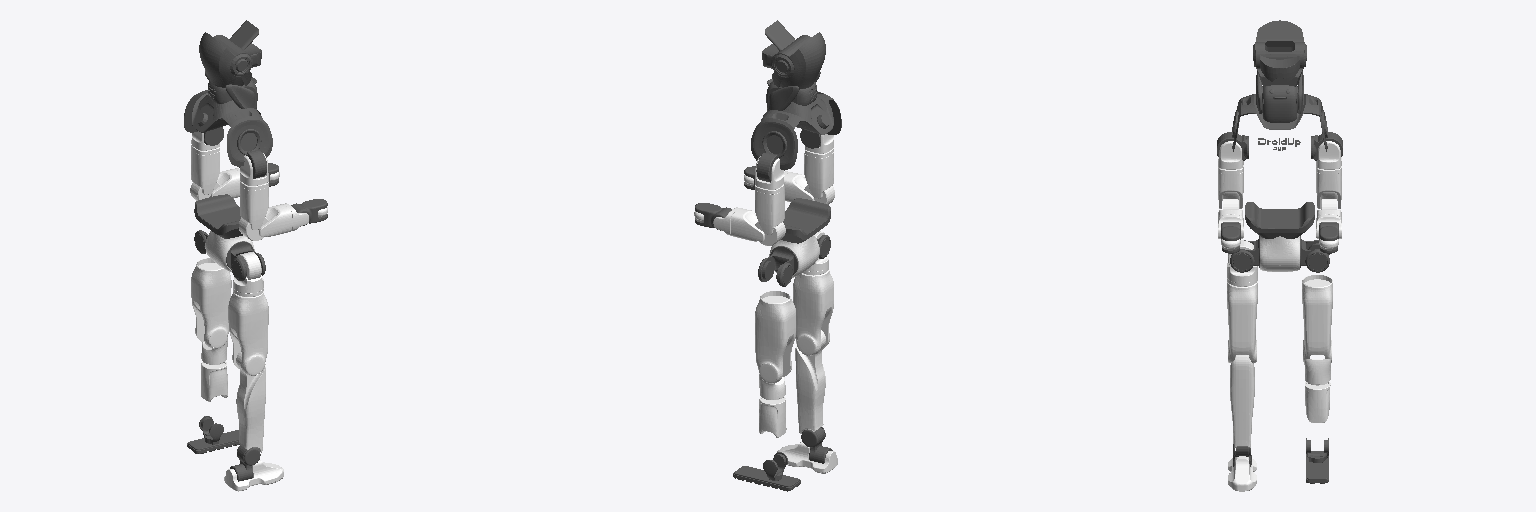
--- Facts derived from the render (not from the file) ---
The picture shows the robot from 3 angles, left to right: view 1: azimuth 30°, elevation 25°; view 2: azimuth 150°, elevation 25°; view 3: azimuth 270°, elevation 25°; orthographic projection.
Model E1_1105 with 31 links and 30 joints (12 revolute, 18 fixed), rooted at pelvis, posed every joint at zero.
Visible links, largest first — view 1: torso_link, left_hip_yaw_link, right_hip_yaw_link, right_knee_link, right_shoulder_yaw_link, left_knee_link, left_shoulder_yaw_link, left_ankle_pitch_link, head_yaw_link, right_ankle_roll_link, right_hip_roll_link, right_elbow_link (+4 smaller); view 2: torso_link, left_hip_yaw_link, right_hip_yaw_link, right_knee_link, left_shoulder_yaw_link, left_knee_link, right_shoulder_yaw_link, left_ankle_pitch_link, left_hip_pitch_link, head_yaw_link, right_ankle_roll_link, left_elbow_link (+4 smaller); view 3: torso_link, left_hip_yaw_link, right_hip_yaw_link, right_knee_link, head_yaw_link, left_knee_link, pelvis, right_shoulder_yaw_link, left_shoulder_yaw_link, right_ankle_roll_link, left_ankle_pitch_link, left_hip_pitch_link (+4 smaller).
Link boxes in pixels (x1=…): torso_link: x1=184, y1=20, x2=272, y2=238; left_hip_yaw_link: x1=191, y1=258, x2=231, y2=348; right_hip_yaw_link: x1=228, y1=291, x2=268, y2=375; right_knee_link: x1=236, y1=351, x2=265, y2=452; right_shoulder_yaw_link: x1=239, y1=181, x2=268, y2=240; left_knee_link: x1=201, y1=326, x2=227, y2=401; left_shoulder_yaw_link: x1=190, y1=145, x2=220, y2=200; left_ankle_pitch_link: x1=187, y1=416, x2=239, y2=453; head_yaw_link: x1=205, y1=70, x2=257, y2=108; right_ankle_roll_link: x1=224, y1=460, x2=283, y2=491; right_hip_roll_link: x1=233, y1=252, x2=263, y2=296; right_elbow_link: x1=259, y1=204, x2=292, y2=236; torso_link: x1=751, y1=20, x2=841, y2=243; left_hip_yaw_link: x1=755, y1=291, x2=795, y2=383; right_hip_yaw_link: x1=793, y1=270, x2=833, y2=355; right_knee_link: x1=795, y1=330, x2=825, y2=433; left_shoulder_yaw_link: x1=755, y1=184, x2=785, y2=245; left_knee_link: x1=759, y1=360, x2=786, y2=437; right_shoulder_yaw_link: x1=804, y1=148, x2=834, y2=204; left_ankle_pitch_link: x1=733, y1=452, x2=800, y2=491; left_hip_pitch_link: x1=758, y1=246, x2=797, y2=286; head_yaw_link: x1=766, y1=72, x2=820, y2=110; right_ankle_roll_link: x1=777, y1=442, x2=837, y2=473; left_elbow_link: x1=731, y1=208, x2=764, y2=241; torso_link: x1=1232, y1=20, x2=1327, y2=238; left_hip_yaw_link: x1=1302, y1=275, x2=1332, y2=362; right_hip_yaw_link: x1=1227, y1=281, x2=1257, y2=363; right_knee_link: x1=1230, y1=355, x2=1254, y2=447; head_yaw_link: x1=1256, y1=71, x2=1303, y2=122; left_knee_link: x1=1304, y1=359, x2=1330, y2=422; pelvis: x1=1260, y1=236, x2=1299, y2=271; right_shoulder_yaw_link: x1=1218, y1=165, x2=1243, y2=209; left_shoulder_yaw_link: x1=1316, y1=166, x2=1341, y2=209; right_ankle_roll_link: x1=1228, y1=456, x2=1256, y2=491; left_ankle_pitch_link: x1=1306, y1=438, x2=1328, y2=483; left_hip_pitch_link: x1=1300, y1=236, x2=1329, y2=272.
Size in the robot's own frame: 0.3801 by 0.3876 by 1.5 metres.
Meshes: 31 distinct files referenced, 27 mesh visuals loaded (27 binary STL); not drawn: 4 (reference not matched to a file when rendering).

URDF robot description (E1_1105):
<robot name="E1_1105">
  <mujoco>
    <compiler meshdir="./meshes" discardvisual="false" />
  </mujoco>

<!--  <link name="world"></link>-->
<!--  <joint name="pelvis" type="floating">-->
<!--    <parent link="world" />-->
<!--    <child link="pelvis" />-->
<!--  </joint>-->

  <link name="pelvis">
    <inertial>
      <origin xyz="-1.83413794531939E-07 2.98943988592675E-07 0.0134170656558657" rpy="0 0 0" />
      <mass value="1.9" />
      <inertia ixx="0.00412942476684183" ixy="7.9500399436213E-08" ixz="-8.80627368133011E-09" iyy="0.00400398565597388" iyz="1.87664925069937E-08" izz="0.00335510854296503" />
    </inertial>
    <visual>
      <origin xyz="0 0 0" rpy="0 0 0" />
      <geometry>
        <mesh filename="meshes/pelvis.STL" />
      </geometry>
      <material name="">
        <color rgba="1 1 1 1" />
      </material>
    </visual>
    <collision>
      <origin xyz="0 0 0" rpy="0 0 0" />
      <geometry>
        <mesh filename="meshes/pelvis.STL" />
      </geometry>
    </collision>
  </link>
  <link name="left_hip_pitch_link">
    <inertial>
      <origin xyz="1.52451975403866E-07 0.0407813784550008 -0.00956053039877227" rpy="0 0 0" />
      <mass value="0.3" />
      <inertia ixx="0.000269878356889899" ixy="3.21921002553031E-10" ixz="4.67483648373081E-10" iyy="0.00023525121974292" iyz="3.63524473071972E-05" izz="0.000301823025775253" />
    </inertial>
    <visual>
      <origin xyz="0 0 0" rpy="0 0 0" />
      <geometry>
        <mesh filename="meshes/left_hip_pitch_link.STL" />
      </geometry>
      <material name="">
        <color rgba="0.419607843137255 0.419607843137255 0.419607843137255 1" />
      </material>
    </visual>
    <!-- <collision>
      <origin xyz="0 0 0" rpy="0 0 0" />
      <geometry>
        <mesh filename="meshes1/left_hip_pitch_link.STL" />
      </geometry>
    </collision> -->
  </link>
  <joint name="left_hip_pitch_joint" type="revolute">
    <origin xyz="0 0.0575 0" rpy="0 0 0" />
    <parent link="pelvis" />
    <child link="left_hip_pitch_link" />
    <axis xyz="0 1 0" />
    <limit lower="-2.7053" upper="2.7053" effort="60" velocity="20.42" />
  </joint>
  <link name="left_hip_roll_link">
    <inertial>
      <origin xyz="6.63802170195488E-08 -8.1233351989507E-10 -0.0406011836663885" rpy="0 0 0" />
      <mass value="0.8" />
      <inertia ixx="0.000627677899723644" ixy="7.54988156399424E-10" ixz="-1.02257309350326E-09" iyy="0.000508449067172039" iyz="2.58504362551028E-11" izz="0.00061444803305325" />
    </inertial>
    <visual>
      <origin xyz="0 0 0" rpy="0 0 0" />
      <geometry>
        <mesh filename="meshes/left_hip_roll_link.STL" />
      </geometry>
      <material name="">
        <color rgba="1 1 1 1" />
      </material>
    </visual>
<!--    <collision>-->
<!--      <origin xyz="0 0 0" rpy="0 0 0" />-->
<!--      <geometry>-->
<!--        <mesh filename="meshes1/left_hip_roll_link.STL" />-->
<!--      </geometry>-->
<!--    </collision>-->
  </link>
  <joint name="left_hip_roll_joint" type="revolute">
    <origin xyz="0 0.0575 -0.015" rpy="0 0 0" />
    <parent link="left_hip_pitch_link" />
    <child link="left_hip_roll_link" />
    <axis xyz="1 0 0" />
    <limit lower="-0.1745" upper="2.618" effort="36" velocity="50.265" />
  </joint>
  <link name="left_hip_yaw_link">
    <inertial>
      <origin xyz="0.00321297740736395 1.33387922221506E-07 -0.102007121365614" rpy="0 0 0" />
      <mass value="1.9" />
      <inertia ixx="0.00850622193691753" ixy="4.71787589720949E-08" ixz="0.000437498560791448" iyy="0.00881787584778391" iyz="-7.6741796966937E-08" izz="0.00262824773981393" />
    </inertial>
    <visual>
      <origin xyz="0 0 0" rpy="0 0 0" />
      <geometry>
        <mesh filename="meshes/left_hip_yaw_link.STL" />
      </geometry>
      <material name="">
        <color rgba="1 1 1 1" />
      </material>
    </visual>
    <collision>
      <origin xyz="0 0 0" rpy="0 0 0" />
      <geometry>
        <mesh filename="meshes/left_hip_yaw_link.STL" />
      </geometry>
    </collision>
  </link>
  <joint name="left_hip_yaw_joint" type="revolute">
    <origin xyz="0 0 -0.098" rpy="0 0 0" />
    <parent link="left_hip_roll_link" />
    <child link="left_hip_yaw_link" />
    <axis xyz="0 0 1" />
    <limit lower="-2.4871" upper="3.0107" effort="36" velocity="50.265" />
  </joint>
  <link name="left_knee_link">
    <inertial>
      <origin xyz="0.0109278316072295 5.3766088206203E-06 -0.133601925302133" rpy="0 0 0" />
      <mass value="0.8" />
      <inertia ixx="0.0102800184284511" ixy="1.80990733308231E-08" ixz="-7.82240982237415E-06" iyy="0.010375664572444" iyz="6.47501785488385E-08" izz="0.000978043337234648" />
    </inertial>
    <visual>
      <origin xyz="0 0 0" rpy="0 0 0" />
      <geometry>
        <mesh filename="meshes/left_knee_link.STL" />
      </geometry>
      <material name="">
        <color rgba="1 1 1 1" />
      </material>
    </visual>
<!--    <collision>-->
<!--      <origin xyz="0 0 0" rpy="0 0 0" />-->
<!--      <geometry>-->
<!--        <mesh filename="meshes1/left_knee_link.STL" />-->
<!--      </geometry>-->
<!--    </collision>-->
  </link>
  <joint name="left_knee_joint" type="revolute">
    <origin xyz="0 0 -0.222" rpy="0 0 0" />
    <parent link="left_hip_yaw_link" />
    <child link="left_knee_link" />
    <axis xyz="0 1 0" />
    <limit lower="0" upper="2.4435" effort="36" velocity="50.265" />
  </joint>
  <link name="left_ankle_pitch_link">
    <inertial>
      <origin xyz="-0.0132527196871667 1.28366638568744E-08 -0.0294210559728624" rpy="0 0 0" />
      <mass value="0.5" />
      <inertia ixx="0.000327457033831156" ixy="-4.67079549876968E-13" ixz="-0.000101178913615764" iyy="0.000394404745192837" iyz="-3.5035440737998E-13" izz="0.000155602382791322" />
    </inertial>
    <visual>
      <origin xyz="0 0 0" rpy="0 0 0" />
      <geometry>
        <mesh filename="meshes/left_ankle_pitch_link.STL" />
      </geometry>
      <material name="">
        <color rgba="0.419607843137255 0.419607843137255 0.419607843137255 1" />
      </material>
    </visual>
    <collision>
      <origin xyz="0 0 0" rpy="0 0 0" />
      <geometry>
        <mesh filename="meshes/left_ankle_pitch_link.STL" />
      </geometry>
    </collision>
  </link>
  <joint name="left_ankle_pitch_joint" type="revolute">
    <origin xyz="0 0 -0.32" rpy="0 0 0" />
    <parent link="left_knee_link" />
    <child link="left_ankle_pitch_link" />
    <axis xyz="0 1 0" />
    <limit lower="-1.5708" upper="1.5708" effort="36" velocity="50.265" />
  </joint>
  <link name="left_ankle_roll_link">
    <inertial>
      <origin xyz="0.0284592518249772 4.64077530126783E-07 -0.0168245876166663" rpy="0 0 0" />
      <mass value="0.3" />
      <inertia ixx="0.000296976288730031" ixy="2.14412637177684E-08" ixz="1.05761102825063E-05" iyy="0.00130743357623556" iyz="-1.5243368620958E-09" izz="0.00140269118104658" />
    </inertial>
    <visual>
      <origin xyz="0 0 0" rpy="0 0 0" />
      <geometry>
        <mesh filename="meshes/left_ankle_roll_link.STL" />
      </geometry>
      <material name="">
        <color rgba="1 1 1 1" />
      </material>
    </visual>
    <collision>
      <origin xyz="0 0 0" rpy="0 0 0" />
      <geometry>
        <mesh filename="meshes/left_ankle_roll_link.STL" />
      </geometry>
    </collision>
  </link>
  <joint name="left_ankle_roll_joint" type="revolute">
    <origin xyz="0 0 -0.06" rpy="0 0 0" />
    <parent link="left_ankle_pitch_link" />
    <child link="left_ankle_roll_link" />
    <axis xyz="1 0 0" />
    <limit lower="-1.5708" upper="1.5708" effort="14" velocity="32.987" />
  </joint>
  <link name="right_hip_pitch_link">
    <inertial>
      <origin xyz="-1.5244E-07 -0.040781 -0.0095605" rpy="0 0 0" />
      <mass value="0.3" />
      <inertia ixx="0.00026988" ixy="3.2181E-10" ixz="-4.6747E-10" iyy="0.00023525" iyz="-3.6352E-05" izz="0.00030182" />
    </inertial>
    <visual>
      <origin xyz="0 0 0" rpy="0 0 0" />
      <geometry>
        <mesh filename="meshes/right_hip_pitch_link.STL" />
      </geometry>
      <material name="">
        <color rgba="0.41961 0.41961 0.41961 1" />
      </material>
    </visual>
    <!-- <collision>
      <origin xyz="0 0 0" rpy="0 0 0" />
      <geometry>
        <mesh filename="meshes1/right_hip_pitch_link.STL" />
      </geometry>
    </collision> -->
  </link>
  <joint name="right_hip_pitch_joint" type="revolute">
    <origin xyz="0 -0.0575 0" rpy="0 0 0" />
    <parent link="pelvis" />
    <child link="right_hip_pitch_link" />
    <axis xyz="0 1 0" />
    <limit lower="-2.7053" upper="2.7053" effort="60" velocity="20.42" />
  </joint>
  <link name="right_hip_roll_link">
    <inertial>
      <origin xyz="6.63802170020177E-08 -8.12333478261706E-10 -0.0406011836663885" rpy="0 0 0" />
      <mass value="0.8" />
      <inertia ixx="0.000627677899723644" ixy="7.54988156437793E-10" ixz="-1.02257309333545E-09" iyy="0.000508449067172038" iyz="2.58504362989452E-11" izz="0.00061444803305325" />
    </inertial>
    <visual>
      <origin xyz="0 0 0" rpy="0 0 0" />
      <geometry>
        <mesh filename="meshes/right_hip_roll_link.STL" />
      </geometry>
      <material name="">
        <color rgba="1 1 1 1" />
      </material>
    </visual>
<!--    <collision>-->
<!--      <origin xyz="0 0 0" rpy="0 0 0" />-->
<!--      <geometry>-->
<!--        <mesh filename="meshes1/right_hip_roll_link.STL" />-->
<!--      </geometry>-->
<!--    </collision>-->
  </link>
  <joint name="right_hip_roll_joint" type="revolute">
    <origin xyz="0 -0.0575 -0.015" rpy="0 0 0" />
    <parent link="right_hip_pitch_link" />
    <child link="right_hip_roll_link" />
    <axis xyz="1 0 0" />
    <limit lower="-2.618" upper="0.1745" effort="36" velocity="50.265" />
  </joint>
  <link name="right_hip_yaw_link">
    <inertial>
      <origin xyz="0.00321297750613062 1.332467232662E-07 -0.102007121574787" rpy="0 0 0" />
      <mass value="1.9" />
      <inertia ixx="0.00850622197043781" ixy="4.71890575633323E-08" ixz="0.000437498575356464" iyy="0.00881787588551376" iyz="-7.67617215579917E-08" izz="0.00262824774956217" />
    </inertial>
    <visual>
      <origin xyz="0 0 0" rpy="0 0 0" />
      <geometry>
        <mesh filename="meshes/right_hip_yaw_link.STL" />
      </geometry>
      <material name="">
        <color rgba="1 1 1 1" />
      </material>
    </visual>
    <collision>
      <origin xyz="0 0 0" rpy="0 0 0" />
      <geometry>
        <mesh filename="meshes/right_hip_yaw_link.STL" />
      </geometry>
    </collision>
  </link>
  <joint name="right_hip_yaw_joint" type="revolute">
    <origin xyz="0 0 -0.098" rpy="0 0 0" />
    <parent link="right_hip_roll_link" />
    <child link="right_hip_yaw_link" />
    <axis xyz="0 0 1" />
    <limit lower="-3.0107" upper="2.4871" effort="36" velocity="50.265" />
  </joint>
  <link name="right_knee_link">
    <inertial>
      <origin xyz="0.0109278283757339 5.36564553658969E-06 -0.133601946647882" rpy="0 0 0" />
      <mass value="0.8" />
      <inertia ixx="0.0102800177557341" ixy="1.79435461436539E-08" ixz="-7.82229444504474E-06" iyy="0.0103756635565679" iyz="6.37253741863177E-08" izz="0.000978043754463989" />
    </inertial>
    <visual>
      <origin xyz="0 0 0" rpy="0 0 0" />
      <geometry>
        <mesh filename="meshes/right_knee_link.STL" />
      </geometry>
      <material name="">
        <color rgba="1 1 1 1" />
      </material>
    </visual>
<!--    <collision>-->
<!--      <origin xyz="0 0 0" rpy="0 0 0" />-->
<!--      <geometry>-->
<!--        <mesh filename="meshes1/right_knee_link.STL" />-->
<!--      </geometry>-->
<!--    </collision>-->
  </link>
  <joint name="right_knee_joint" type="revolute">
    <origin xyz="0 0 -0.222" rpy="0 0 0" />
    <parent link="right_hip_yaw_link" />
    <child link="right_knee_link" />
    <axis xyz="0 1 0" />
    <limit lower="0" upper="2.4435" effort="36" velocity="50.265" />
  </joint>
  <link name="right_ankle_pitch_link">
    <inertial>
      <origin xyz="-0.0132527196871667 1.28366638152411E-08 -0.0294210559728624" rpy="0 0 0" />
      <mass value="0.5" />
      <inertia ixx="0.000327457033831156" ixy="-4.6707952840807E-13" ixz="-0.000101178913615764" iyy="0.000394404745192837" iyz="-3.5035441059814E-13" izz="0.000155602382791322" />
    </inertial>
    <visual>
      <origin xyz="0 0 0" rpy="0 0 0" />
      <geometry>
        <mesh filename="meshes/right_ankle_pitch_link.STL" />
      </geometry>
      <material name="">
        <color rgba="0.419607843137255 0.419607843137255 0.419607843137255 1" />
      </material>
    </visual>
    <collision>
      <origin xyz="0 0 0" rpy="0 0 0" />
      <geometry>
        <mesh filename="meshes/right_ankle_pitch_link.STL" />
      </geometry>
    </collision>
  </link>
  <joint name="right_ankle_pitch_joint" type="revolute">
    <origin xyz="0 0 -0.32" rpy="0 0 0" />
    <parent link="right_knee_link" />
    <child link="right_ankle_pitch_link" />
    <axis xyz="0 1 0" />
    <limit lower="-1.5708" upper="1.5708" effort="36" velocity="50.265" />
  </joint>
  <link name="right_ankle_roll_link">
    <inertial>
      <origin xyz="0.0284592515863445 4.64740914363215E-07 -0.0168245874924177" rpy="0 0 0" />
      <mass value="0.3" />
      <inertia ixx="0.000296976275883959" ixy="2.14367250509346E-08" ixz="1.05761096842698E-05" iyy="0.00130743356938149" iyz="-1.52065410772223E-09" izz="0.00140269116446525" />
    </inertial>
    <visual>
      <origin xyz="0 0 0" rpy="0 0 0" />
      <geometry>
        <mesh filename="meshes/right_ankle_roll_link.STL" />
      </geometry>
      <material name="">
        <color rgba="1 1 1 1" />
      </material>
    </visual>
    <collision>
      <origin xyz="0 0 0" rpy="0 0 0" />
      <geometry>
        <mesh filename="meshes/right_ankle_roll_link.STL" />
      </geometry>
    </collision>
  </link>
  <joint name="right_ankle_roll_joint" type="revolute">
    <origin xyz="0 0 -0.06" rpy="0 0 0" />
    <parent link="right_ankle_pitch_link" />
    <child link="right_ankle_roll_link" />
    <axis xyz="1 0 0" />
    <limit lower="-1.5708" upper="1.5708" effort="14" velocity="32.987" />
  </joint>
  <link name="waist_yaw_link">
    <inertial>
      <origin xyz="-1.00318550845741E-18 -4.40983629759401E-18 -0.0137858801840424" rpy="0 0 0" />
      <mass value="0.95" />
      <inertia ixx="0.000178101144028374" ixy="-3.55112299822906E-22" ixz="-1.84596052922556E-21" iyy="0.000178101144028374" iyz="8.47087959118458E-21" izz="0.000326412698974036" />
    </inertial>
    <visual>
      <origin xyz="0 0 0" rpy="0 0 0" />
      <geometry>
        <mesh filename="meshes/waist_yaw_link.STL" />
      </geometry>
      <material name="">
        <color rgba="1 1 1 1" />
      </material>
    </visual>
    <collision>
      <origin xyz="0 0 0" rpy="0 0 0" />
      <geometry>
        <mesh filename="meshes/waist_yaw_link.STL" />
      </geometry>
    </collision>
  </link>
  <joint name="waist_yaw_joint" type="fixed">
    <origin xyz="0 0 0.111" rpy="0 0 0" />
    <parent link="pelvis" />
    <child link="waist_yaw_link" />
    <axis xyz="0 0 1" />
    <limit lower="-2.618" upper="2.618" effort="14" velocity="27.28" />
  </joint>
  <link name="torso_link">
    <inertial>
      <origin xyz="-0.000953250891786016 4.48463714895152E-06 0.0867079838967867" rpy="0 0 0" />
      <mass value="4.5" />
      <inertia ixx="0.0148569731914473" ixy="-2.11768915935405E-07" ixz="-9.7358625501387E-06" iyy="0.0126154492628582" iyz="6.0603595292663E-10" izz="0.0134759267724767" />
    </inertial>
    <visual>
      <origin xyz="0 0 0" rpy="0 0 0" />
      <geometry>
        <mesh filename="meshes/torso_link.STL" />
      </geometry>
      <material name="">
        <color rgba="0.419607843137255 0.419607843137255 0.419607843137255 1" />
      </material>
    </visual>
    <collision>
      <origin xyz="0 0 0" rpy="0 0 0" />
      <geometry>
        <mesh filename="meshes/torso_link.STL" />
      </geometry>
    </collision>
  </link>
  <joint name="torso_joint" type="fixed">
    <origin xyz="0 0 0" rpy="0 0 0" />
    <parent link="waist_yaw_link" />
<!--    <parent link="pelvis" />-->
    <child link="torso_link" />
    <axis xyz="0 0 0" />
  </joint>
  <link name="left_shoulder_pitch_link">
    <inertial>
      <origin xyz="-3.62795088978167E-09 0.0468541087381867 4.70195438140308E-10" rpy="0 0 0" />
      <mass value="0.8" />
      <inertia ixx="0.000384646004327151" ixy="-2.97159301755548E-11" ixz="1.07861380319323E-10" iyy="0.000208331618208686" iyz="1.06975266518268E-12" izz="0.000290601645276223" />
    </inertial>
    <visual>
      <origin xyz="0 0 0" rpy="0 0 0" />
      <geometry>
        <mesh filename="meshes/left_shoulder_pitch_link.STL" />
      </geometry>
      <material name="">
        <color rgba="0.419607843137255 0.419607843137255 0.419607843137255 1" />
      </material>
    </visual>
    <collision>
      <origin xyz="0 0 0" rpy="0 0 0" />
      <geometry>
        <mesh filename="meshes/left_shoulder_pitch_link.STL" />
      </geometry>
    </collision>
  </link>
  <joint name="left_shoulder_pitch_joint" type="fixed">
    <origin xyz="0 0.095 0.239" rpy="0 0 0" />
    <parent link="torso_link" />
    <child link="left_shoulder_pitch_link" />
    <axis xyz="0 1 0" />
    <limit lower="-1.0472" upper="2.7925" effort="36" velocity="10.47" />
  </joint>
  <link name="left_shoulder_roll_link">
    <inertial>
      <origin xyz="9.54721813473478E-08 2.07281557587646E-06 -0.025962184550417" rpy="0 0 0" />
      <mass value="0.2" />
      <inertia ixx="0.000166168710880253" ixy="6.33133430240768E-10" ixz="8.71769731232805E-10" iyy="0.000210967984651402" iyz="6.74102594600302E-09" izz="0.000182619649200166" />
    </inertial>
    <visual>
      <origin xyz="0 0 0" rpy="0 0 0" />
      <geometry>
        <mesh filename="meshes/left_shoulder_roll_link.STL" />
      </geometry>
      <material name="">
        <color rgba="1 1 1 1" />
      </material>
    </visual>
    <collision>
      <origin xyz="0 0 0" rpy="0 0 0" />
      <geometry>
        <mesh filename="meshes/left_shoulder_roll_link.STL" />
      </geometry>
    </collision>
  </link>
  <joint name="left_shoulder_roll_joint" type="fixed">
    <origin xyz="0 0.055 0" rpy="0 0 0" />
    <parent link="left_shoulder_pitch_link" />
    <child link="left_shoulder_roll_link" />
    <axis xyz="1 0 0" />
    <limit lower="-0.1745" upper="2.9671" effort="36" velocity="10.47" />
  </joint>
  <link name="left_shoulder_yaw_link">
    <inertial>
      <origin xyz="-0.00238787499621339 3.29789390740576E-07 -0.0619848900930662" rpy="0 0 0" />
      <mass value="0.6" />
      <inertia ixx="0.000843852170223379" ixy="3.024019404019E-09" ixz="-6.2524144937626E-05" iyy="0.000807165632915812" iyz="-8.48560908992441E-09" izz="0.000560783394536492" />
    </inertial>
    <visual>
      <origin xyz="0 0 0" rpy="0 0 0" />
      <geometry>
        <mesh filename="meshes/left_shoulder_yaw_link.STL" />
      </geometry>
      <material name="">
        <color rgba="1 1 1 1" />
      </material>
    </visual>
    <collision>
      <origin xyz="0 0 0" rpy="0 0 0" />
      <geometry>
        <mesh filename="meshes/left_shoulder_yaw_link.STL" />
      </geometry>
    </collision>
  </link>
  <joint name="left_shoulder_yaw_join" type="fixed">
    <origin xyz="0 0 -0.051" rpy="0 0 0" />
    <parent link="left_shoulder_roll_link" />
    <child link="left_shoulder_yaw_link" />
    <axis xyz="0 0 1" />
    <limit lower="-2.618" upper="2.618" effort="14" velocity="27.28" />
  </joint>
  <link name="left_elbow_link">
    <inertial>
      <origin xyz="0.0773604941217468 -1.28374290669919E-07 -0.00358582595897386" rpy="0 0 0" />
      <mass value="0.35" />
      <inertia ixx="0.000367299914861626" ixy="3.31227231602107E-09" ixz="-4.45080595543624E-05" iyy="0.000445480505042553" iyz="-3.53146218482571E-09" izz="0.000487773374073461" />
    </inertial>
    <visual>
      <origin xyz="0 0 0" rpy="0 0 0" />
      <geometry>
        <mesh filename="meshes/left_elbow_link.STL" />
      </geometry>
      <material name="">
        <color rgba="1 1 1 1" />
      </material>
    </visual>
    <collision>
      <origin xyz="0 0 0" rpy="0 0 0" />
      <geometry>
        <mesh filename="meshes/left_elbow_link.STL" />
      </geometry>
    </collision>
  </link>
  <joint name="left_elbow_joint" type="fixed">
    <origin xyz="0 0 -0.159" rpy="0 0 0" />
    <parent link="left_shoulder_yaw_link" />
    <child link="left_elbow_link" />
    <axis xyz="0 1 0" />
    <limit lower="-0.6981" upper="1.5708" effort="28" velocity="27.28" />
  </joint>
  <link name="left_wrist_roll_link">
    <inertial>
      <origin xyz="0.00687152369858399 1.12872290486399E-07 -3.43767861149535E-07" rpy="0 0 0" />
      <mass value="0.1" />
      <inertia ixx="0.000121984465417177" ixy="-3.45820851020895E-10" ixz="3.70614228004654E-10" iyy="6.55797167729546E-05" iyz="2.16304641279229E-09" izz="9.87711531136548E-05" />
    </inertial>
    <visual>
      <origin xyz="0 0 0" rpy="0 0 0" />
      <geometry>
        <mesh filename="meshes/left_wrist_roll_link.STL" />
      </geometry>
      <material name="">
        <color rgba="1 1 1 1" />
      </material>
    </visual>
    <collision>
      <origin xyz="0 0 0" rpy="0 0 0" />
      <geometry>
        <mesh filename="meshes/left_wrist_roll_link.STL" />
      </geometry>
    </collision>
  </link>
  <joint name="left_wrist_roll_joint" type="fixed">
    <origin xyz="0.125 0 0" rpy="0 0 0" />
    <parent link="left_elbow_link" />
    <child link="left_wrist_roll_link" />
    <axis xyz="1 0 0" />
    <limit lower="-2.1817" upper="2.1817" effort="36" velocity="10.47" />
  </joint>
  <link name="left_wrist_pitch_link">
    <!-- <inertial>
      <origin xyz="-0.15039841132517 -0.14999927672651 -0.174594605088237" rpy="0 0 0" />
      <mass value="0.461115547386" />
      <inertia ixx="2.62672563872397" ixy="3.48107042214179E-07" ixz="-0.00053745144406783" iyy="2.44006908906042" iyz="-3.11190943223642E-06" izz="0.25470245054488" />
    </inertial> -->
    <visual>
      <origin xyz="0 0 0" rpy="0 0 0" />
      <geometry>
        <mesh filename="meshes/left_wrist_pitch_link.STL" />
      </geometry>
      <material name="">
        <color rgba="0.419607843137255 0.419607843137255 0.419607843137255 1" />
      </material>
    </visual>
    <collision>
      <origin xyz="0 0 0" rpy="0 0 0" />
      <geometry>
        <mesh filename="meshes/left_wrist_pitch_link.STL" />
      </geometry>
    </collision>
  </link>
  <joint name="left_wrist_pitch_joint" type="fixed">
    <origin xyz="0.035 0 0" rpy="0 0 0" />
    <parent link="left_wrist_roll_link" />
    <child link="left_wrist_pitch_link" />
    <axis xyz="0 1 0" />
    <limit lower="-0.6109" upper="0.6109" effort="14" velocity="27.28" />
  </joint>
  <link name="left_wrist_yaw_link">
    <inertial>
      <origin xyz="-2.77555756156289E-17 7.38853422888042E-14 7.99638133486269E-14" rpy="0 0 0" />
      <mass value="0.2" />
      <inertia ixx="1.58560821923607E-05" ixy="3.59737400518439E-25" ixz="1.90545782846007E-21" iyy="1.58560821923607E-05" iyz="-1.49030555787401E-21" izz="2.5958497404233E-05" />
    </inertial>
    <visual>
      <origin xyz="0 0 0" rpy="0 0 0" />
      <geometry>
        <mesh filename="meshes/left_wrist_yaw_link.STL" />
      </geometry>
      <material name="">
        <color rgba="1 1 1 1" />
      </material>
    </visual>
    <collision>
      <origin xyz="0 0 0" rpy="0 0 0" />
      <geometry>
        <mesh filename="meshes/left_wrist_yaw_link.STL" />
      </geometry>
    </collision>
  </link>
  <joint name="left_wrist_yaw_joint" type="fixed">
    <origin xyz="0.07 0 0" rpy="0 0 0" />
    <parent link="left_wrist_pitch_link" />
    <child link="left_wrist_yaw_link" />
    <axis xyz="0 0 1" />
    <limit lower="-1.5708" upper="1.5708" effort="14" velocity="27.28" />
  </joint>
  <link name="right_shoulder_pitch_link">
    <inertial>
      <origin xyz="3.62795076750049E-09 -0.0468541087381867 4.70195382629157E-10" rpy="0 0 0" />
      <mass value="0.8" />
      <inertia ixx="0.000384646004327153" ixy="-2.97159300702279E-11" ixz="-1.07861380331982E-10" iyy="0.000208331618208687" iyz="-1.06975250640712E-12" izz="0.000290601645276223" />
    </inertial>
    <visual>
      <origin xyz="0 0 0" rpy="0 0 0" />
      <geometry>
        <mesh filename="meshes/right_shoulder_pitch_link.STL" />
      </geometry>
      <material name="">
        <color rgba="0.419607843137255 0.419607843137255 0.419607843137255 1" />
      </material>
    </visual>
    <collision>
      <origin xyz="0 0 0" rpy="0 0 0" />
      <geometry>
        <mesh filename="meshes/right_shoulder_pitch_link.STL" />
      </geometry>
    </collision>
  </link>
  <joint name="right_shoulder_pitch_joint" type="fixed">
    <origin xyz="0 -0.095 0.239" rpy="0 0 0" />
    <parent link="torso_link" />
    <child link="right_shoulder_pitch_link" />
    <axis xyz="0 1 0" />
    <limit lower="-1.0472" upper="2.7925" effort="36" velocity="10.47" />
  </joint>
  <link name="right_shoulder_roll_link">
    <inertial>
      <origin xyz="9.54721813655118E-08 2.07281553596395E-06 -0.0259621845504171" rpy="0 0 0" />
      <mass value="0.2" />
      <inertia ixx="0.000166168710880253" ixy="6.33133429994791E-10" ixz="8.7176973108899E-10" iyy="0.000210967984651402" iyz="6.7410259459361E-09" izz="0.000182619649200167" />
    </inertial>
    <visual>
      <origin xyz="0 0 0" rpy="0 0 0" />
      <geometry>
        <mesh filename="meshes/right_shoulder_roll_link.STL" />
      </geometry>
      <material name="">
        <color rgba="1 1 1 1" />
      </material>
    </visual>
    <collision>
      <origin xyz="0 0 0" rpy="0 0 0" />
      <geometry>
        <mesh filename="meshes/right_shoulder_roll_link.STL" />
      </geometry>
    </collision>
  </link>
  <joint name="right_shoulder_roll_joint" type="fixed">
    <origin xyz="0 -0.055 0" rpy="0 0 0" />
    <parent link="right_shoulder_pitch_link" />
    <child link="right_shoulder_roll_link" />
    <axis xyz="1 0 0" />
    <limit lower="-2.9671" upper="0.1745" effort="36" velocity="10.47" />
  </joint>
  <link name="right_shoulder_yaw_link">
    <inertial>
      <origin xyz="-0.00238787498455459 3.29782081726071E-07 -0.0619848900995176" rpy="0 0 0" />
      <mass value="0.6" />
      <inertia ixx="0.000843852170059108" ixy="3.02411429369011E-09" ixz="-6.25241448079798E-05" iyy="0.000807165632799666" iyz="-8.48557150237615E-09" izz="0.000560783394635736" />
    </inertial>
    <visual>
      <origin xyz="0 0 0" rpy="0 0 0" />
      <geometry>
        <mesh filename="meshes/right_shoulder_yaw_link.STL" />
      </geometry>
      <material name="">
        <color rgba="1 1 1 1" />
      </material>
    </visual>
    <collision>
      <origin xyz="0 0 0" rpy="0 0 0" />
      <geometry>
        <mesh filename="meshes/right_shoulder_yaw_link.STL" />
      </geometry>
    </collision>
  </link>
  <joint name="right_shoulder_yaw_joint" type="fixed">
    <origin xyz="0 0 -0.051" rpy="0 0 0" />
    <parent link="right_shoulder_roll_link" />
    <child link="right_shoulder_yaw_link" />
    <axis xyz="0 0 1" />
    <limit lower="-2.618" upper="2.618" effort="14" velocity="27.28" />
  </joint>
  <link name="right_elbow_link">
    <inertial>
      <origin xyz="0.0773604941217468 -1.28374290642164E-07 -0.00358582595897383" rpy="0 0 0" />
      <mass value="0.35" />
      <inertia ixx="0.000367299914861626" ixy="3.31227231605774E-09" ixz="-4.45080595543628E-05" iyy="0.000445480505042553" iyz="-3.53146218516597E-09" izz="0.000487773374073461" />
    </inertial>
    <visual>
      <origin xyz="0 0 0" rpy="0 0 0" />
      <geometry>
        <mesh filename="meshes/right_elbow_link.STL" />
      </geometry>
      <material name="">
        <color rgba="1 1 1 1" />
      </material>
    </visual>
    <collision>
      <origin xyz="0 0 0" rpy="0 0 0" />
      <geometry>
        <mesh filename="meshes/right_elbow_link.STL" />
      </geometry>
    </collision>
  </link>
  <joint name="right_elbow_joint" type="fixed">
    <origin xyz="0 0 -0.159" rpy="0 0 0" />
    <parent link="right_shoulder_yaw_link" />
    <child link="right_elbow_link" />
    <axis xyz="0 1 0" />
    <limit lower="-0.6981" upper="1.5708" effort="36" velocity="10.47" />
  </joint>
  <link name="right_wrist_roll_link">
    <inertial>
      <origin xyz="0.00687153697233873 1.34599054152362E-07 -3.53233833572109E-07" rpy="0 0 0" />
      <mass value="0.1" />
      <inertia ixx="0.000121984553461371" ixy="-3.89457750456299E-10" ixz="3.91006371915815E-10" iyy="6.55797561461094E-05" iyz="2.19640786312885E-09" izz="9.8771255521921E-05" />
    </inertial>
    <visual>
      <origin xyz="0 0 0" rpy="0 0 0" />
      <geometry>
        <mesh filename="meshes/right_wrist_roll_link.STL" />
      </geometry>
      <material name="">
        <color rgba="1 1 1 1" />
      </material>
    </visual>
    <collision>
      <origin xyz="0 0 0" rpy="0 0 0" />
      <geometry>
        <mesh filename="meshes/right_wrist_roll_link.STL" />
      </geometry>
    </collision>
  </link>
  <joint name="right_wrist_roll_joint" type="fixed">
    <origin xyz="0.125 0 0" rpy="0 0 0" />
    <parent link="right_elbow_link" />
    <child link="right_wrist_roll_link" />
    <axis xyz="1 0 0" />
    <limit lower="-2.1817" upper="2.1817" effort="14" velocity="27.28" />
  </joint>
  <link name="right_wrist_pitch_link">
    <!-- <inertial>
      <origin xyz="-0.15039841132517 0.15000072327353 -0.174594605088145" rpy="0 0 0" />
      <mass value="0.461115547386" />
      <inertia ixx="2.62672563872398" ixy="3.48107042214897E-07" ixz="-0.000537451444067825" iyy="2.44006908906042" iyz="-3.11190943227482E-06" izz="0.25470245054488" />
    </inertial> -->
    <visual>
      <origin xyz="0 0 0" rpy="0 0 0" />
      <geometry>
        <mesh filename="meshes/right_wrist_pitch_link.STL" />
      </geometry>
      <material name="">
        <color rgba="0.419607843137255 0.419607843137255 0.419607843137255 1" />
      </material>
    </visual>
    <collision>
      <origin xyz="0 0 0" rpy="0 0 0" />
      <geometry>
        <mesh filename="meshes/right_wrist_pitch_link.STL" />
      </geometry>
    </collision>
  </link>
  <joint name="right_wrist_pitch_joint" type="fixed">
    <origin xyz="0.035 0 0" rpy="0 0 0" />
    <parent link="right_wrist_roll_link" />
    <child link="right_wrist_pitch_link" />
    <axis xyz="0 1 0" />
    <limit lower="-0.6109" upper="0.6109" effort="14" velocity="27.28" />
  </joint>
  <link name="right_wrist_yaw_link">
    <inertial>
      <origin xyz="-2.77555756156289E-17 7.38298311375729E-14 7.99360577730113E-14" rpy="0 0 0" />
      <mass value="0.2" />
      <inertia ixx="1.58560821923608E-05" ixy="1.50463276905253E-35" ixz="1.9053137318976E-21" iyy="1.58560821923608E-05" iyz="-1.78269439098819E-21" izz="2.5958497404233E-05" />
    </inertial>
    <visual>
      <origin xyz="0 0 0" rpy="0 0 0" />
      <geometry>
        <mesh filename="meshes/right_wrist_yaw_link.STL" />
      </geometry>
      <material name="">
        <color rgba="1 1 1 1" />
      </material>
    </visual>
    <collision>
      <origin xyz="0 0 0" rpy="0 0 0" />
      <geometry>
        <mesh filename="meshes/right_wrist_yaw_link.STL" />
      </geometry>
    </collision>
  </link>
  <joint name="right_wrist_yaw_joint" type="fixed">
    <origin xyz="0.07 0 0" rpy="0 0 0" />
    <parent link="right_wrist_pitch_link" />
    <child link="right_wrist_yaw_link" />
    <axis xyz="0 0 1" />
    <limit lower="-1.5708" upper="1.5708" effort="14" velocity="27.28" />
  </joint>
  <link name="head_pitch_link">
    <inertial>
      <origin xyz="-0.00835 -2.3792E-16 0.054887" rpy="0 0 0" />
      <mass value="0.4" />
      <inertia ixx="0.00025398" ixy="8.4566E-19" ixz="1.8686E-05" iyy="0.00022478" iyz="-1.1903E-18" izz="0.00011678" />
    </inertial>
    <visual>
      <origin xyz="0 0 0" rpy="0 0 0" />
      <geometry>
        <mesh filename="meshes/head_pitch_link.STL" />
      </geometry>
      <material name="">
        <color rgba="0.41961 0.41961 0.41961 1" />
      </material>
    </visual>
    <collision>
      <origin xyz="0 0 0" rpy="0 0 0" />
      <geometry>
        <mesh filename="meshes/head_pitch_link.STL" />
      </geometry>
    </collision>
  </link>
  <joint name="head_pitch_joint" type="fixed">
    <origin xyz="0 0 0.304" rpy="0 0 0" />
    <parent link="torso_link" />
    <child link="head_pitch_link" />
    <axis xyz="0 1 0" />
    <limit lower="-0.7854" upper="1.5708" effort="14" velocity="27.28" />
  </joint>
  <link name="head_yaw_link">
    <inertial>
      <origin xyz="0.024424 -1.0139E-06 0.020575" rpy="0 0 0" />
      <mass value="1" />
      <inertia ixx="0.0026181" ixy="1.1871E-07" ixz="0.00067224" iyy="0.003462" iyz="-1.0546E-08" izz="0.0028155" />
    </inertial>
    <visual>
      <origin xyz="0 0 0" rpy="0 0 0" />
      <geometry>
        <mesh filename="meshes/head_yaw_link.STL" />
      </geometry>
      <material name="">
        <color rgba="0.41961 0.41961 0.41961 1" />
      </material>
    </visual>
    <collision>
      <origin xyz="0 0 0" rpy="0 0 0" />
      <geometry>
        <mesh filename="meshes/head_yaw_link.STL" />
      </geometry>
    </collision>
  </link>
  <joint name="head_yaw_joint" type="fixed">
    <origin xyz="-0.01 0 0.095" rpy="0 0 0" />
    <parent link="head_pitch_link" />
    <child link="head_yaw_link" />
    <axis xyz="0 0 1" />
    <limit lower="-3.1415" upper="3.1415" effort="14" velocity="27.28" />
  </joint>
</robot>
